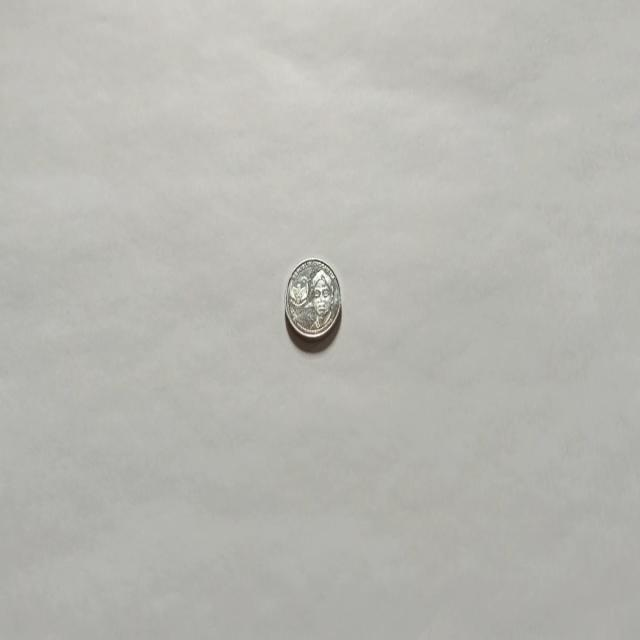dua ratus rupiah: (284, 256, 342, 342)
